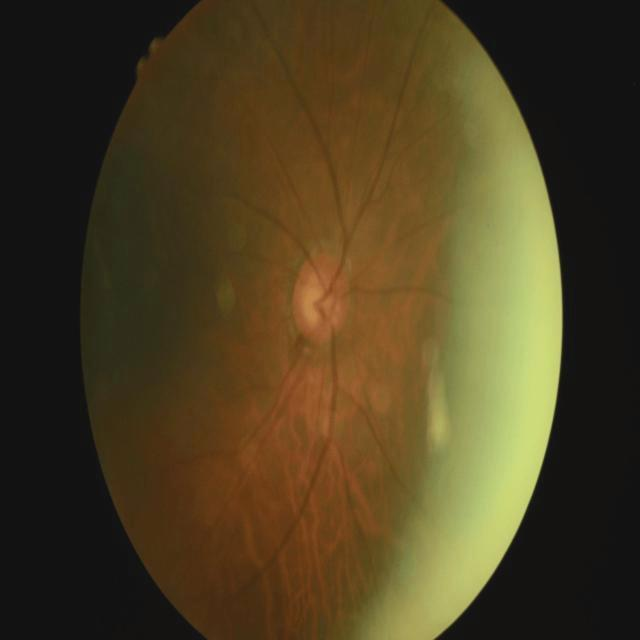cup: (305, 275, 338, 326)
disk: (292, 252, 352, 348)
